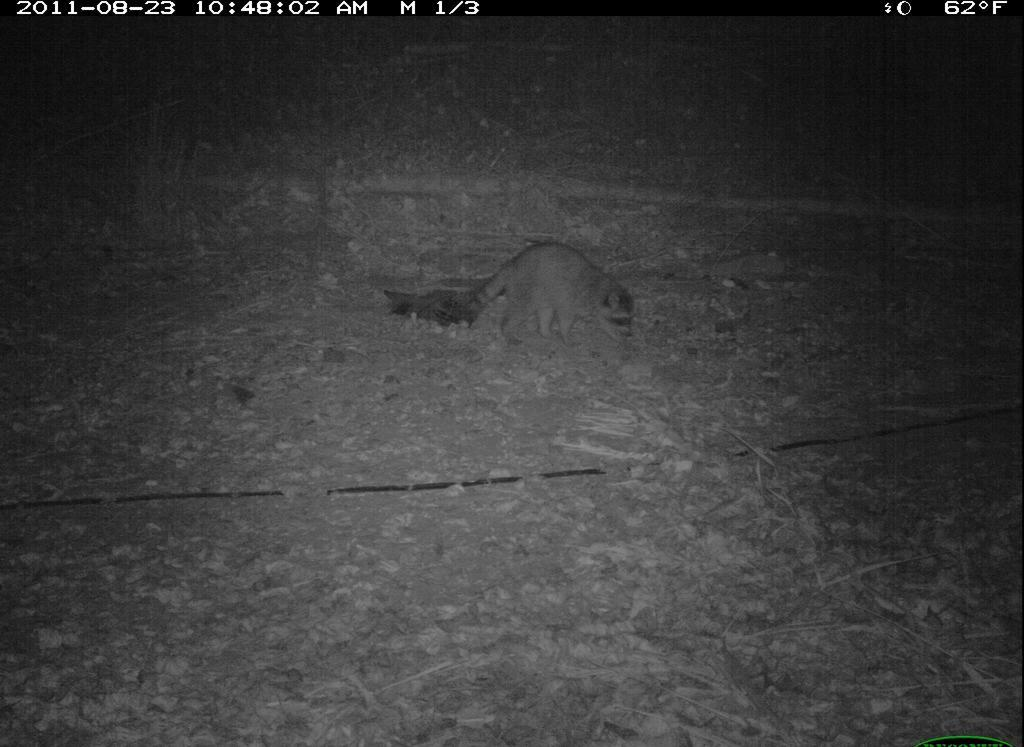raccoon: (390, 219, 694, 393)
